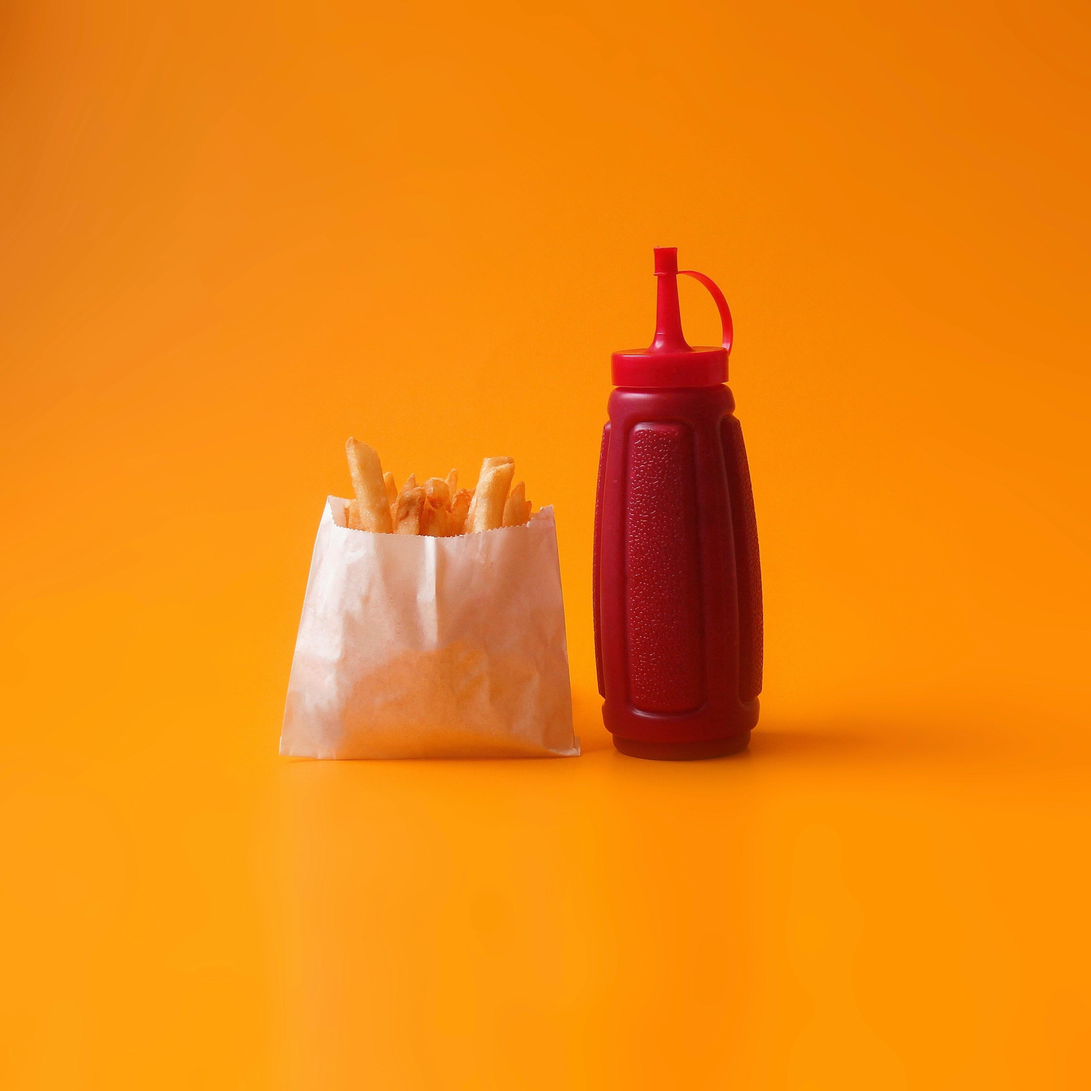Bottle-Detection: (577, 214, 811, 801)
